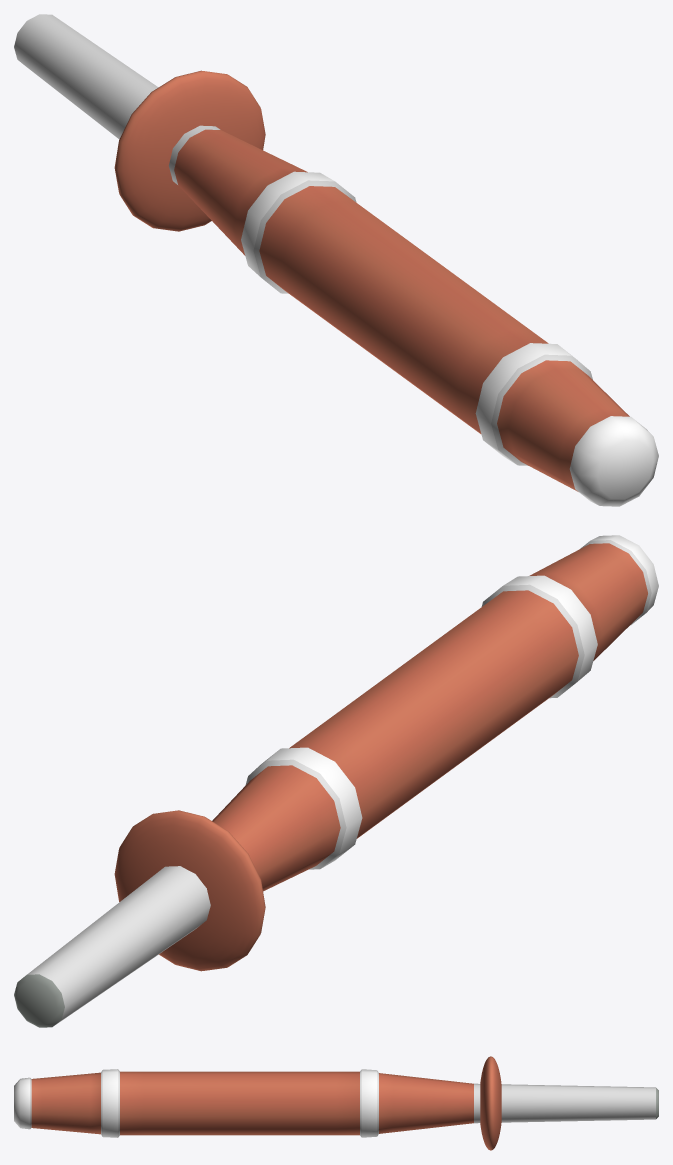
File: kendo.fbx
The picture shows the model from 3 angles, top to bottom: view 1: azimuth 30°, elevation 25°; view 2: azimuth 150°, elevation 25°; view 3: azimuth 270°, elevation 25°; orthographic projection. The views are drawn at different scales.
Parts seen in each view (by area): view 1: kendo; view 2: kendo; view 3: kendo.
Part boxes in pixels (bbox=[...]): kendo: bbox=[14, 14, 658, 506]; kendo: bbox=[14, 535, 658, 1027]; kendo: bbox=[14, 1056, 658, 1150].
Bounding box in the file's own units: 15.75 × 15.51 × 107.
